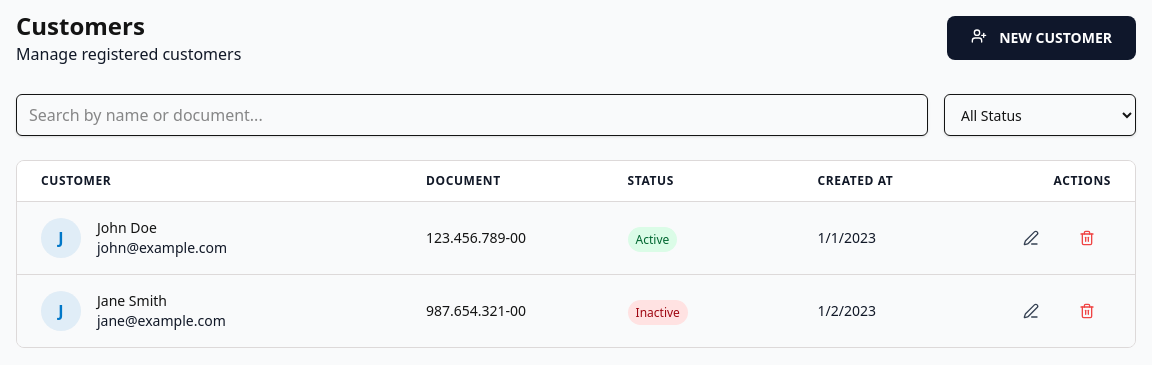
Test case: CustomersList.vue › should filter customers by status
Select "Active" in the dropdown at (1040, 115), box [944,94,1136,136]
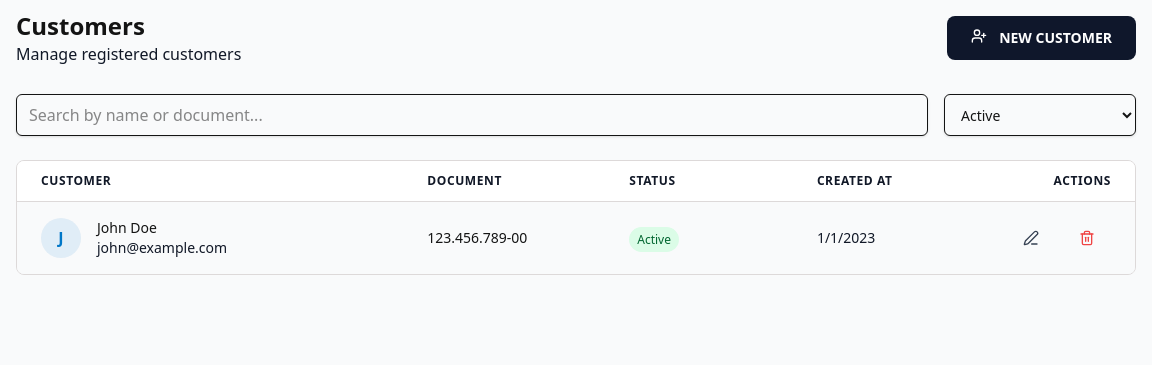
Expected: the text "John Doe" is shown, [97,218,157,237]
Expected: the text "Jane Smith" is gone
Select "Inactive" in the dropdown at (1040, 115), box [944,94,1136,136]
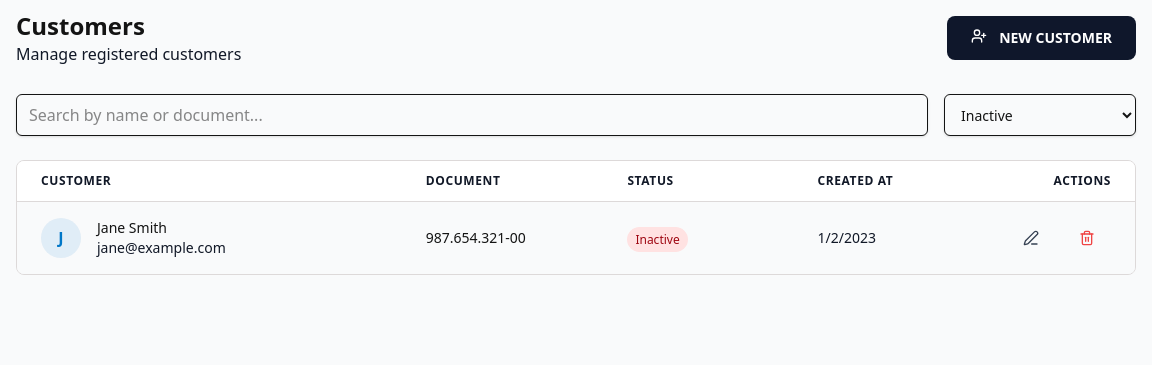
Expected: the text "John Doe" is gone
Expected: the text "Jane Smith" is shown, [97,218,167,237]
Select "All Status" in the dropdown at (1040, 115), box [944,94,1136,136]
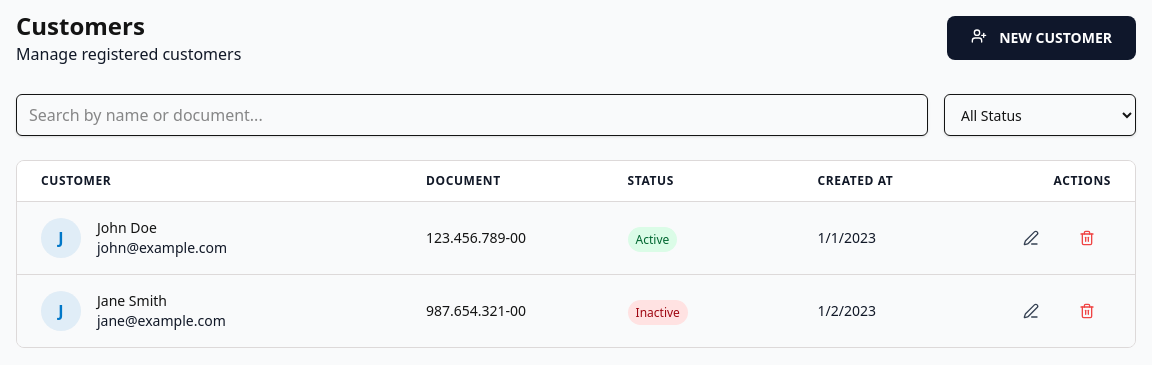
Expected: the text "Jane Smith" is shown, [97,291,167,310]
Expected: the text "John Doe" is shown, [97,218,157,237]
